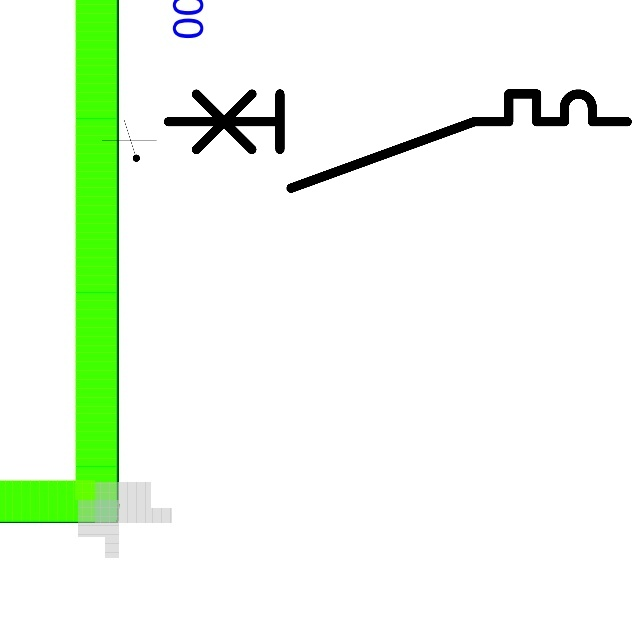interruptor_termomagnetico: (156, 82, 639, 200)
